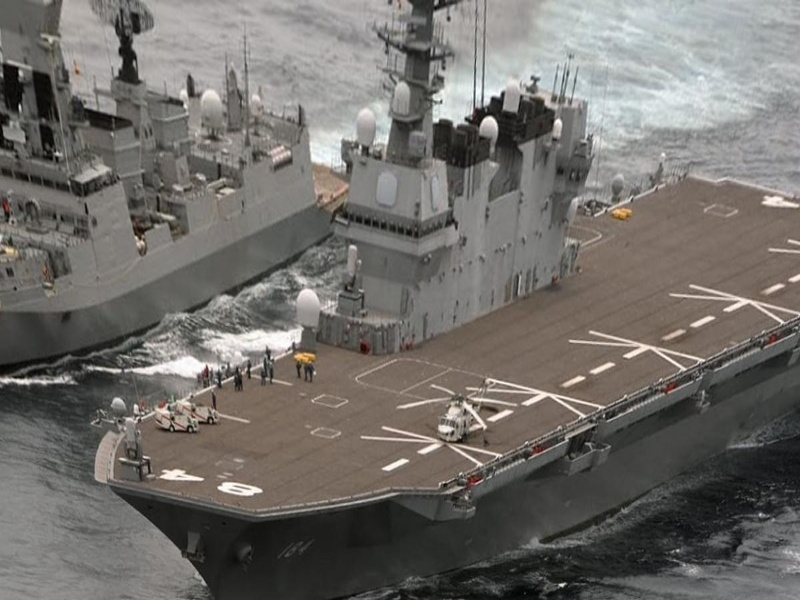carrier: (106, 126, 790, 584)
cruise: (1, 26, 346, 345)
